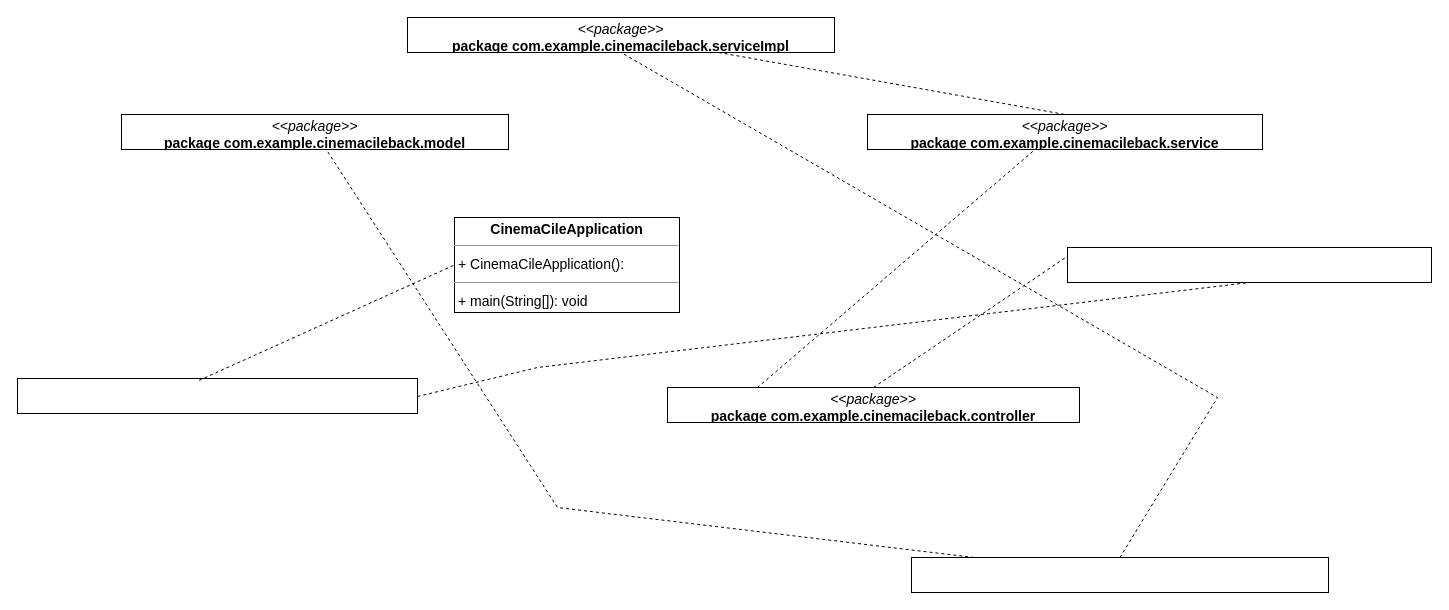
The diagram is 1449 pixels wide and 610 high, and some of its shapes have lost their labels. Each missing label, with the box of its shape:
<<package>> package com.example.cinemacileback.dto: (1066, 246, 1432, 282)
<<package>> package com.example.cinemacileback.repository: (910, 556, 1328, 592)
<<package>> package com.example.cinemacileback.security: (16, 378, 418, 414)
